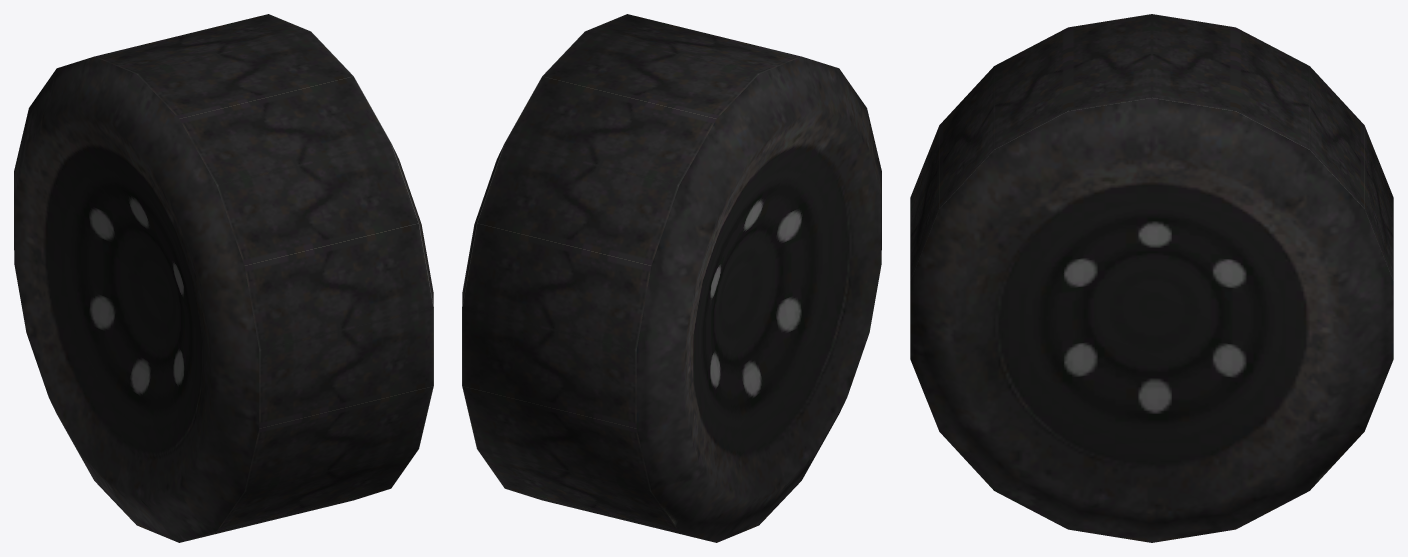
The model's file is tractor_wheel.obj.
3 views of the same model, side by side, from view 1: azimuth 30°, elevation 25°; view 2: azimuth 150°, elevation 25°; view 3: azimuth 270°, elevation 25° (orthographic).
Parts seen in each view (by area): view 1: Mesh_wheel_Cylinder01x; view 2: Mesh_wheel_Cylinder01x; view 3: Mesh_wheel_Cylinder01x.
Boxes of the visible parts, bbox=[...] form: Mesh_wheel_Cylinder01x: bbox=[14, 14, 433, 542]; Mesh_wheel_Cylinder01x: bbox=[462, 14, 881, 542]; Mesh_wheel_Cylinder01x: bbox=[910, 14, 1393, 542].
Size of the model in its own units: 30.68 by 59.69 by 58.78.
Materials: 1 (1 with a texture image).
